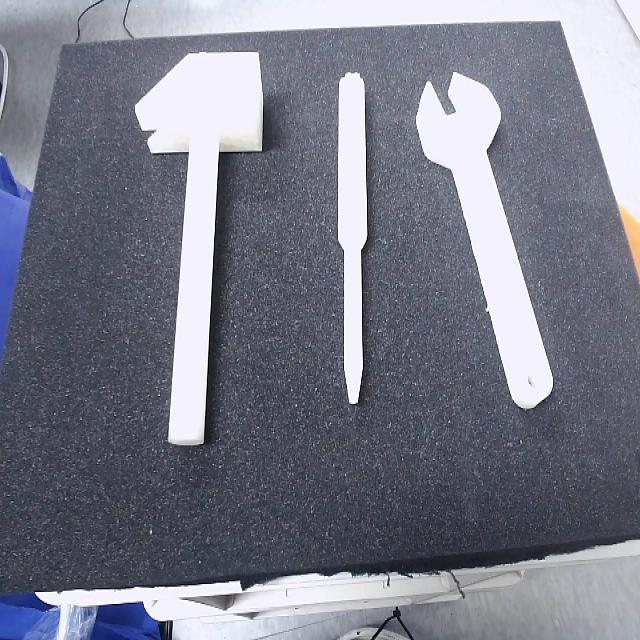Driver: (338, 73, 368, 408)
Hammer: (135, 52, 264, 448)
Spanner: (416, 73, 554, 412)
